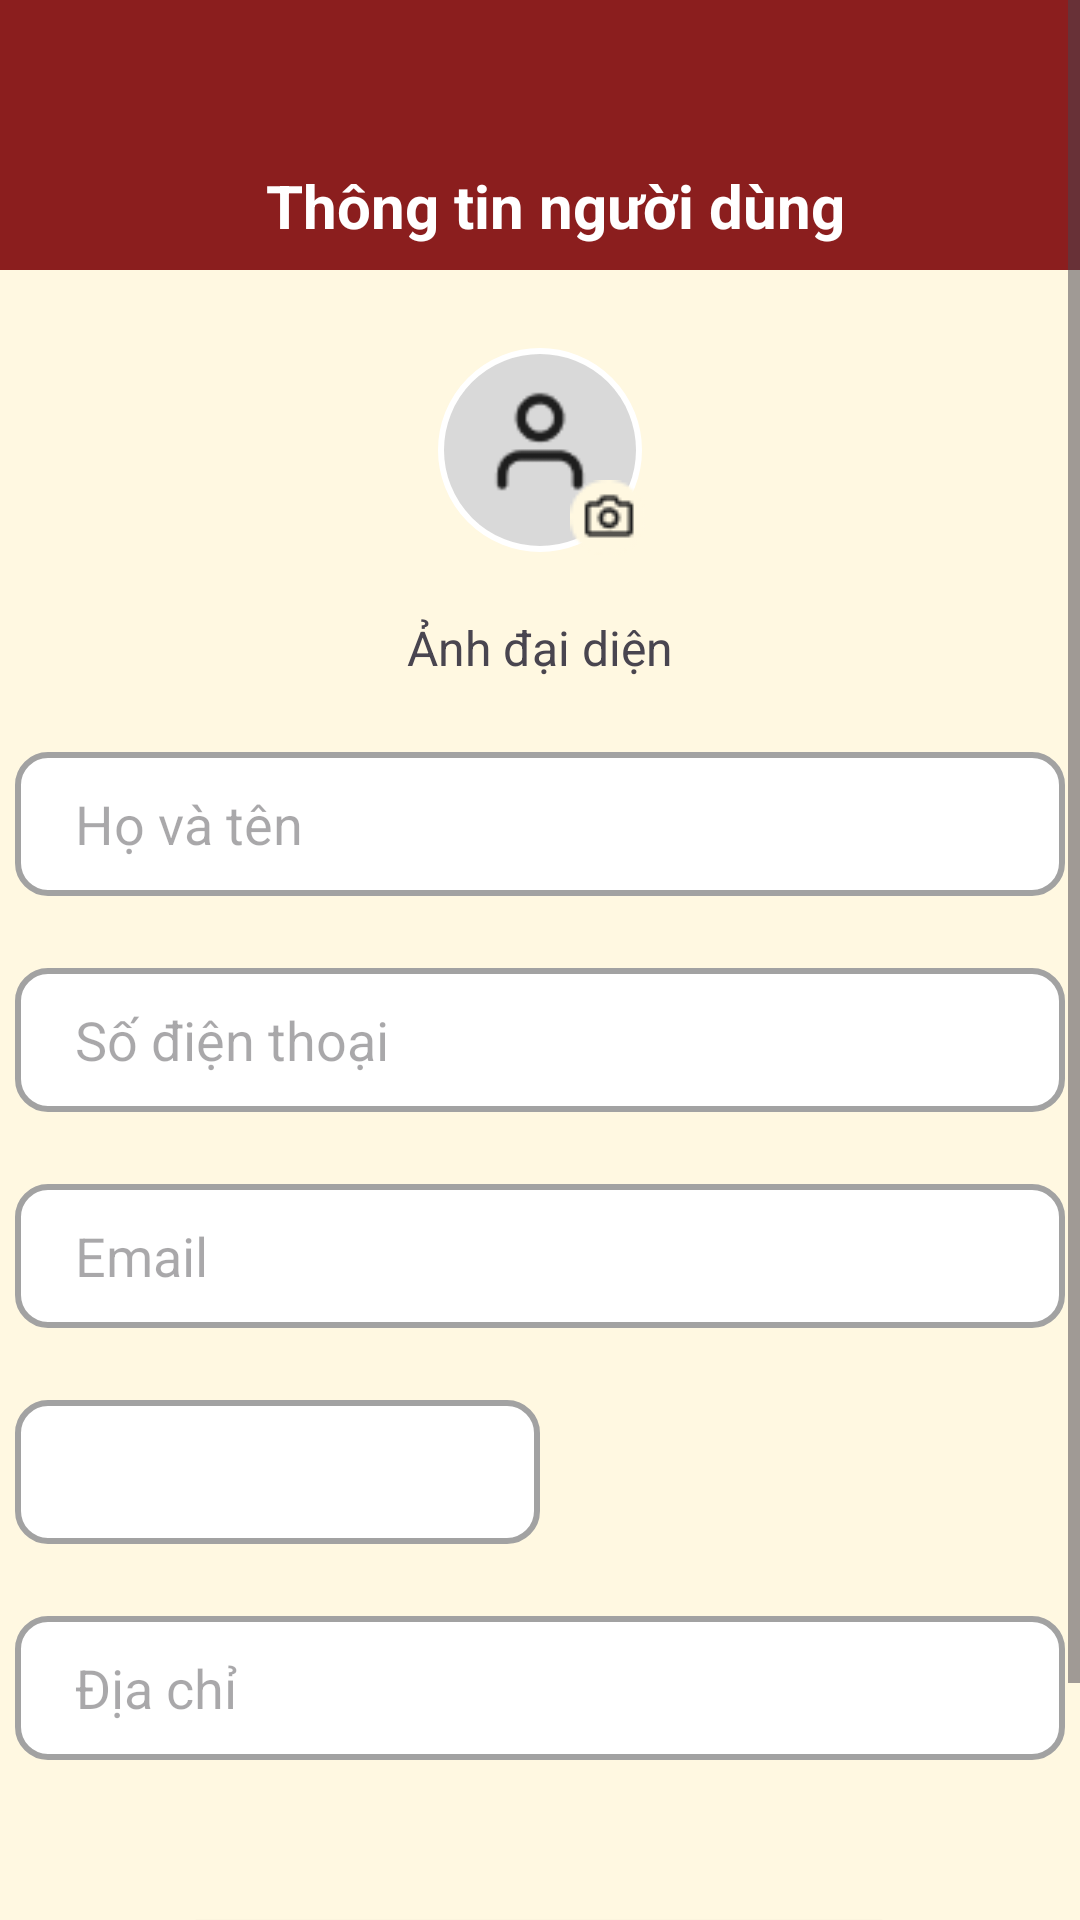

Where to tap for icons on this 1080 × 1920 app screen, as (x=x, y=y):
camera: (x=607, y=517)
